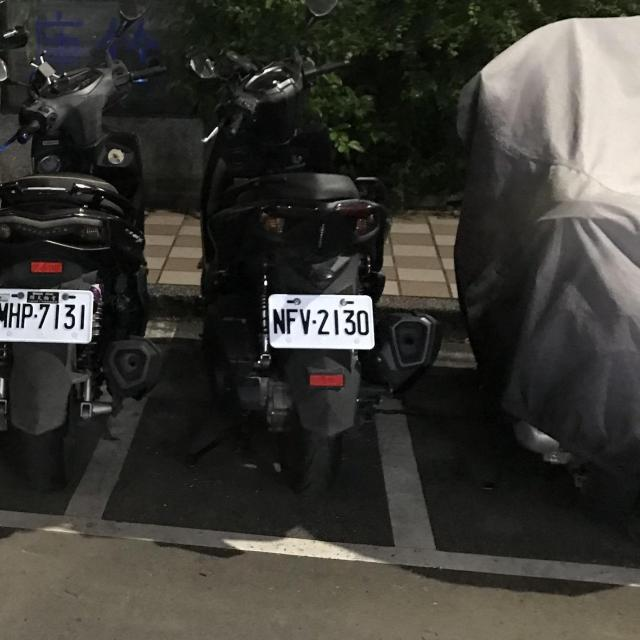W: (266, 291, 379, 352), (0, 286, 96, 346)
